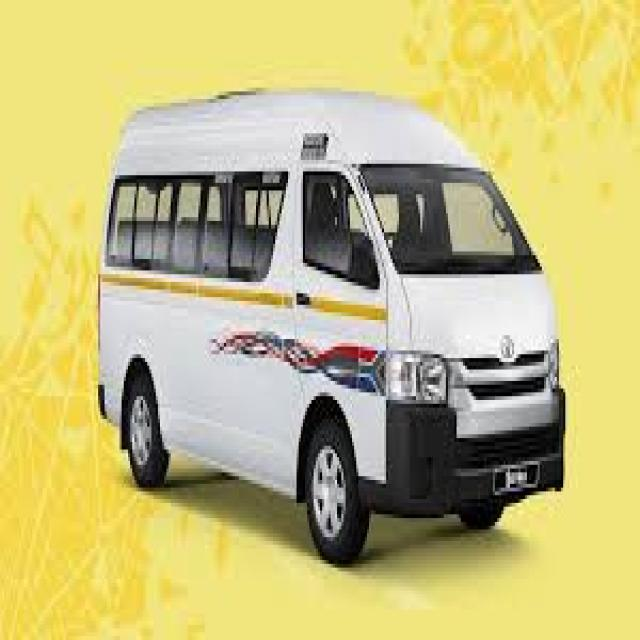matatu: (81, 60, 588, 602)
